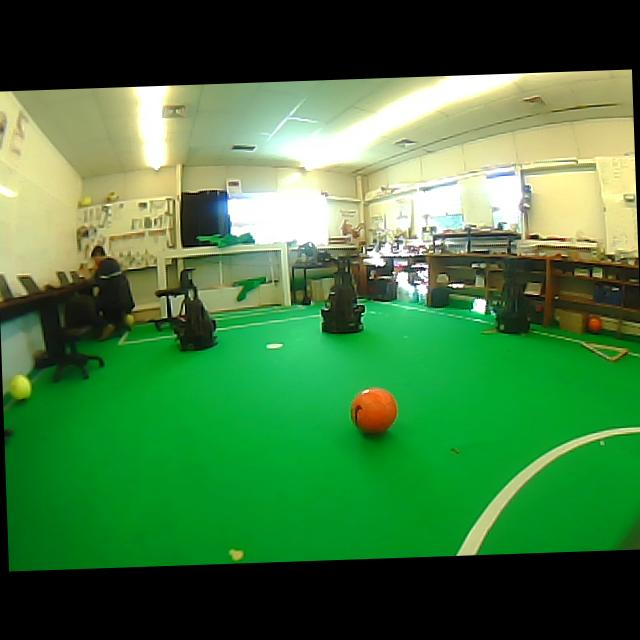ball: (350, 387, 396, 432), (8, 373, 31, 399), (587, 316, 601, 333), (78, 195, 92, 206), (124, 313, 133, 329), (106, 191, 118, 202)
goal: (280, 242, 290, 304)
robot: (173, 268, 216, 349), (321, 263, 364, 333), (496, 280, 529, 333)
